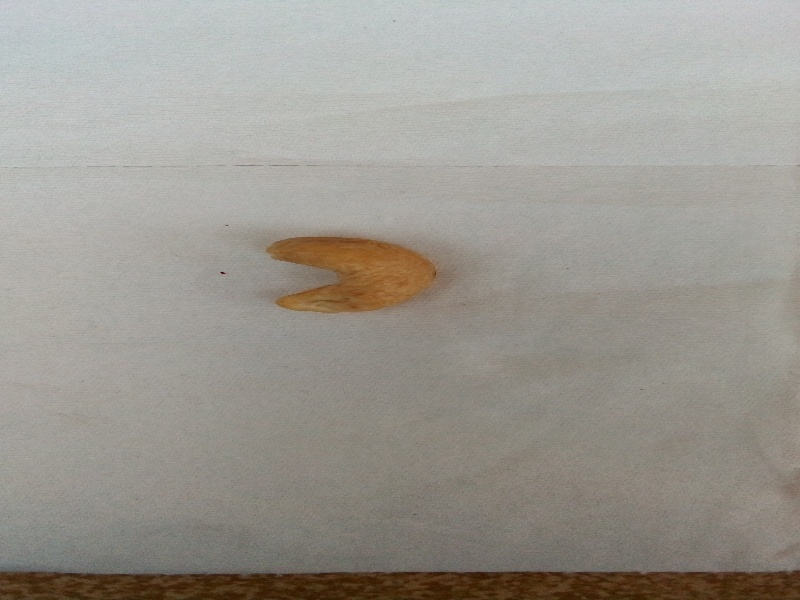cashew: (242, 210, 471, 339)
